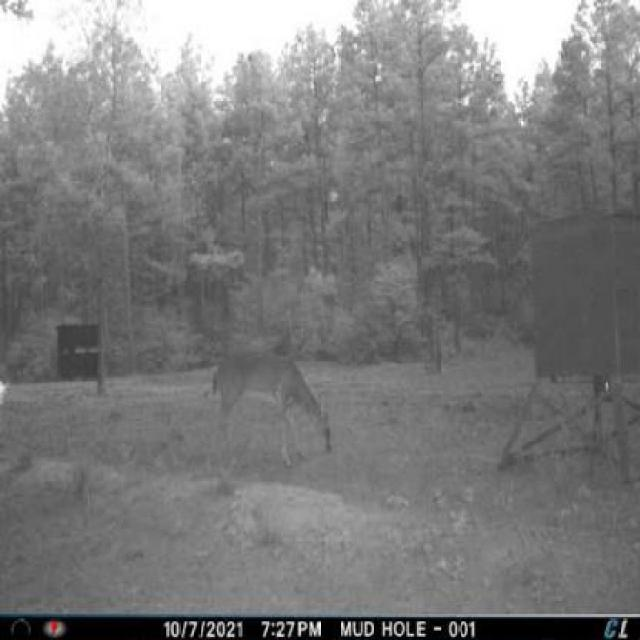Deer: (202, 339, 347, 488)
